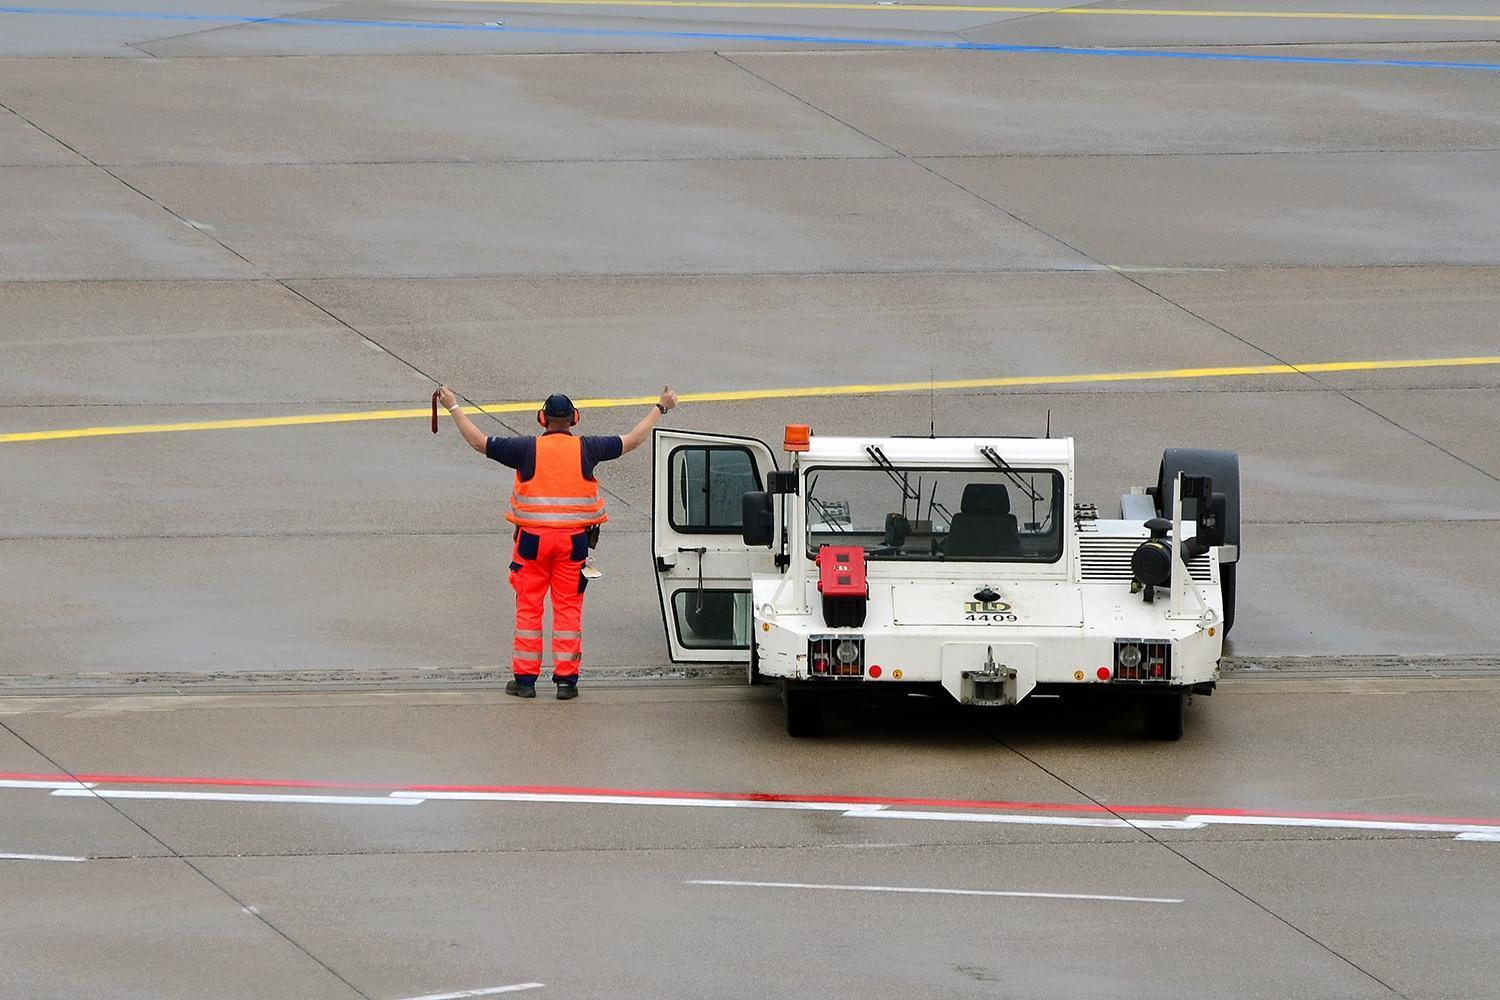vest: (503, 433, 610, 536)
